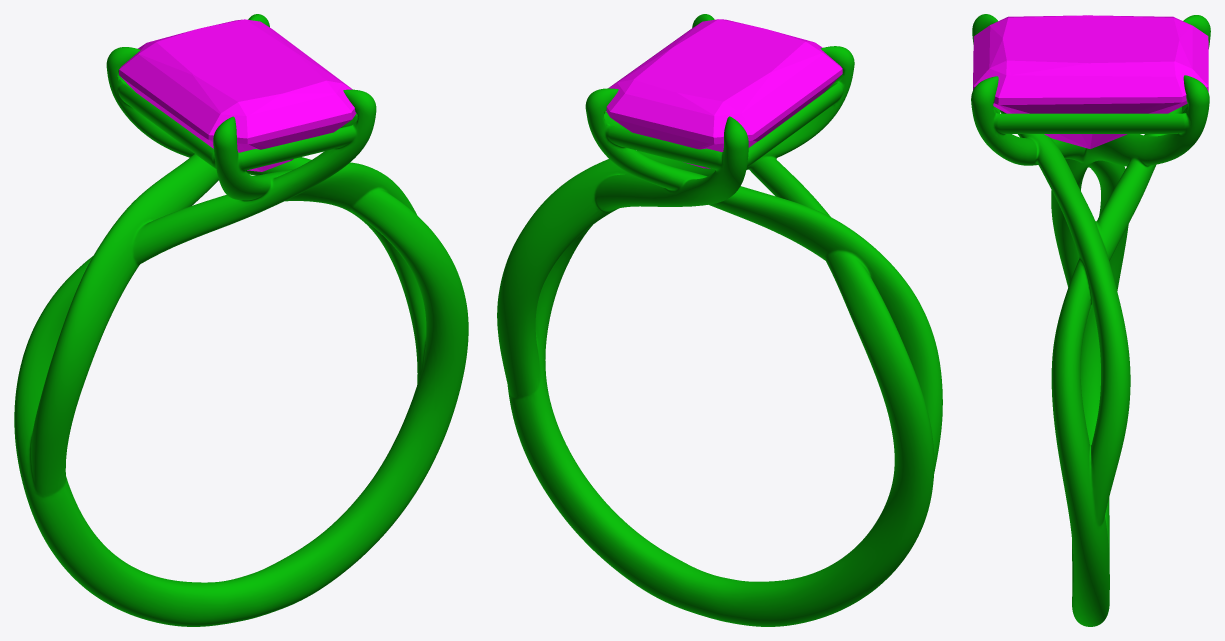
Rendered from BE1818_RA_200ct_RENDER.glb.
3 renders of one model, left to right at view 1: azimuth 30°, elevation 25°; view 2: azimuth 150°, elevation 25°; view 3: azimuth 270°, elevation 25°, orthographic.
Parts seen in each view (by area): view 1: Metal 01, CS_Diamond_Radiant; view 2: Metal 01, CS_Diamond_Radiant; view 3: Metal 01, CS_Diamond_Radiant.
Boxes of the visible parts, bbox=[...] form: Metal 01: bbox=[14, 14, 468, 626]; CS_Diamond_Radiant: bbox=[119, 19, 356, 171]; Metal 01: bbox=[497, 14, 942, 626]; CS_Diamond_Radiant: bbox=[606, 19, 842, 168]; Metal 01: bbox=[971, 14, 1210, 626]; CS_Diamond_Radiant: bbox=[973, 15, 1208, 148].
Size of the model in its own units: 20.01 by 24.46 by 9.43.
